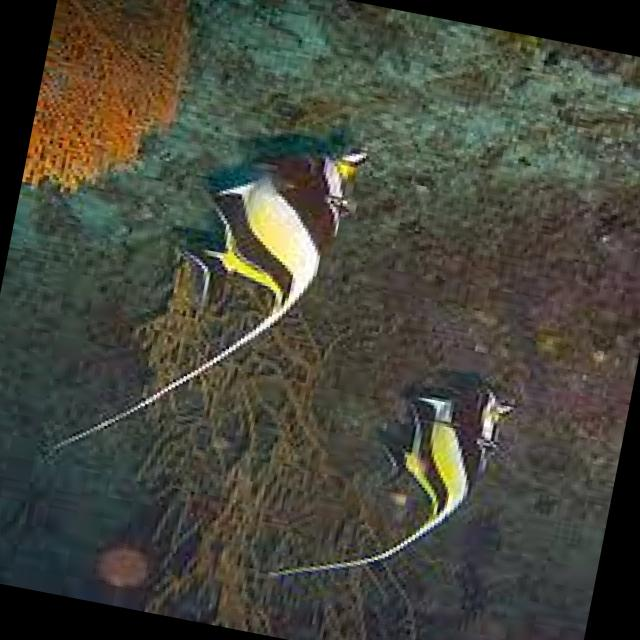MorishIdol: (270, 350, 516, 614), (161, 112, 377, 348)
